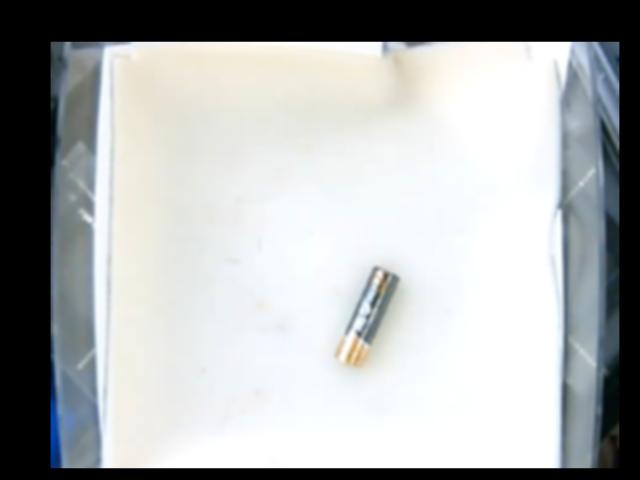Battery: (334, 265, 399, 367)
